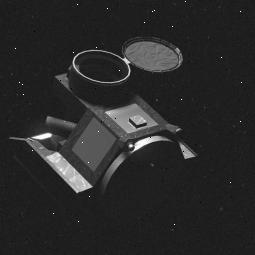cheops: (6, 36, 200, 212)
